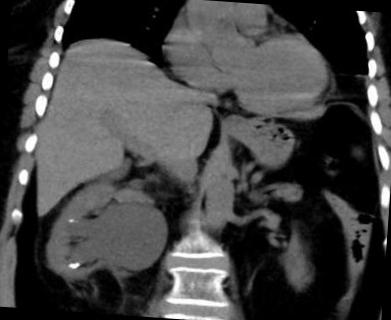Tas_Var: (66, 260, 81, 272), (68, 218, 73, 224), (73, 220, 79, 224)
